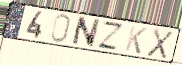0: (50, 12, 72, 45)
4: (24, 10, 44, 40)
K: (124, 24, 148, 56)
N: (70, 15, 102, 49)
X: (145, 27, 175, 61)
Z: (95, 20, 126, 53)
